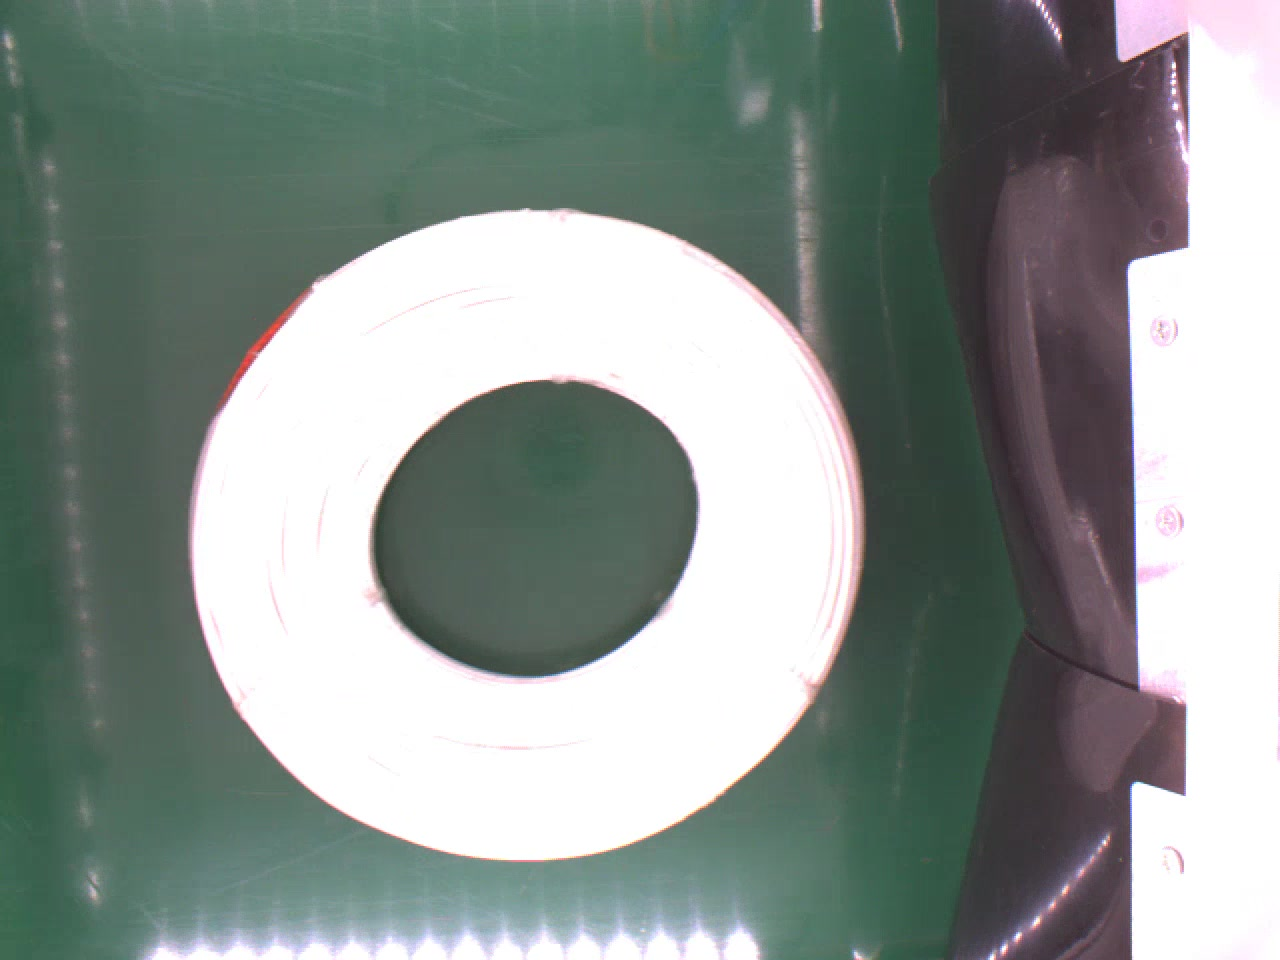white: (162, 207, 865, 871)
